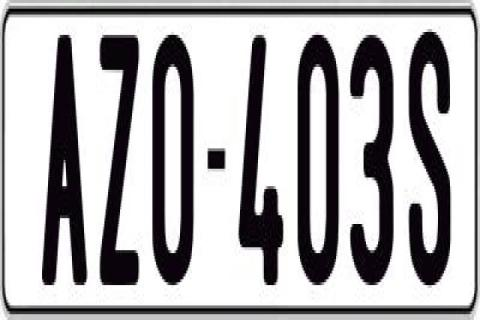0: (348, 35, 398, 294), (152, 32, 200, 291), (236, 35, 282, 288), (298, 35, 340, 303)
A: (40, 35, 94, 291)
S: (406, 24, 452, 288)
Z: (98, 32, 142, 291)
